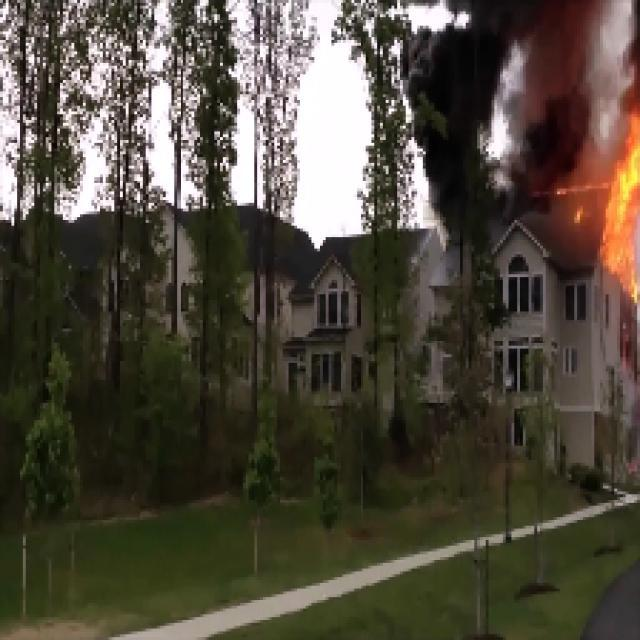Fire: (606, 140, 639, 296)
Smoke: (512, 5, 596, 194), (423, 23, 501, 213)
